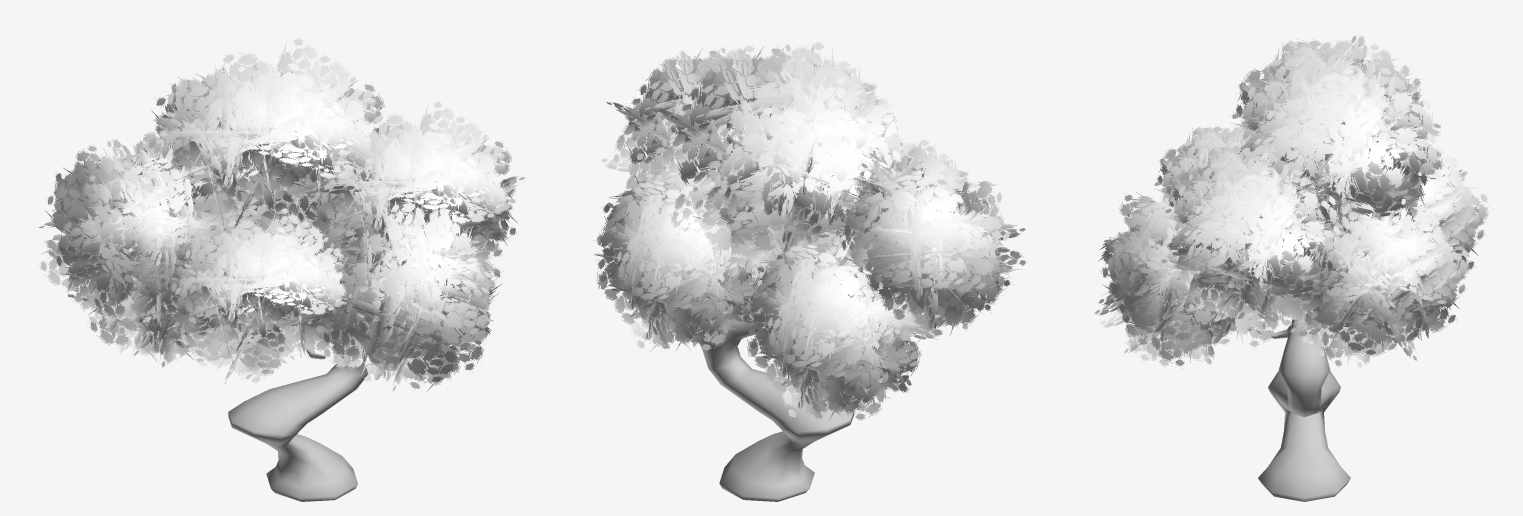
File: hgs_ts04.fbx
The picture shows the model from 3 angles, left to right: view 1: azimuth 30°, elevation 25°; view 2: azimuth 150°, elevation 25°; view 3: azimuth 270°, elevation 25°; orthographic projection. The views are drawn at different scales.
Visible parts, largest first — view 1: yz01, sg01; view 2: yz01, sg01; view 3: yz01, sg01.
Part boxes in pixels (x1,y1,x2,y2): yz01: (37,37,524,391); sg01: (228,330,368,501); yz01: (593,39,1026,421); sg01: (699,305,854,501); yz01: (1094,35,1489,369); sg01: (1255,318,1350,501).
Size of the model in its own units: 22.99 by 22.21 by 19.59.
